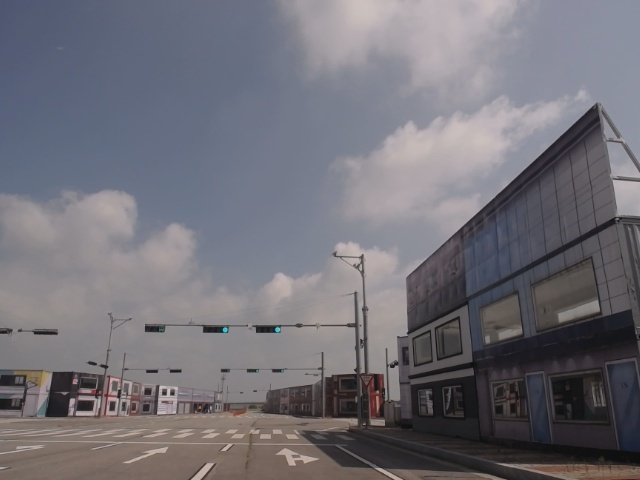straight_green_4: (204, 325, 231, 334), (256, 325, 282, 333)
